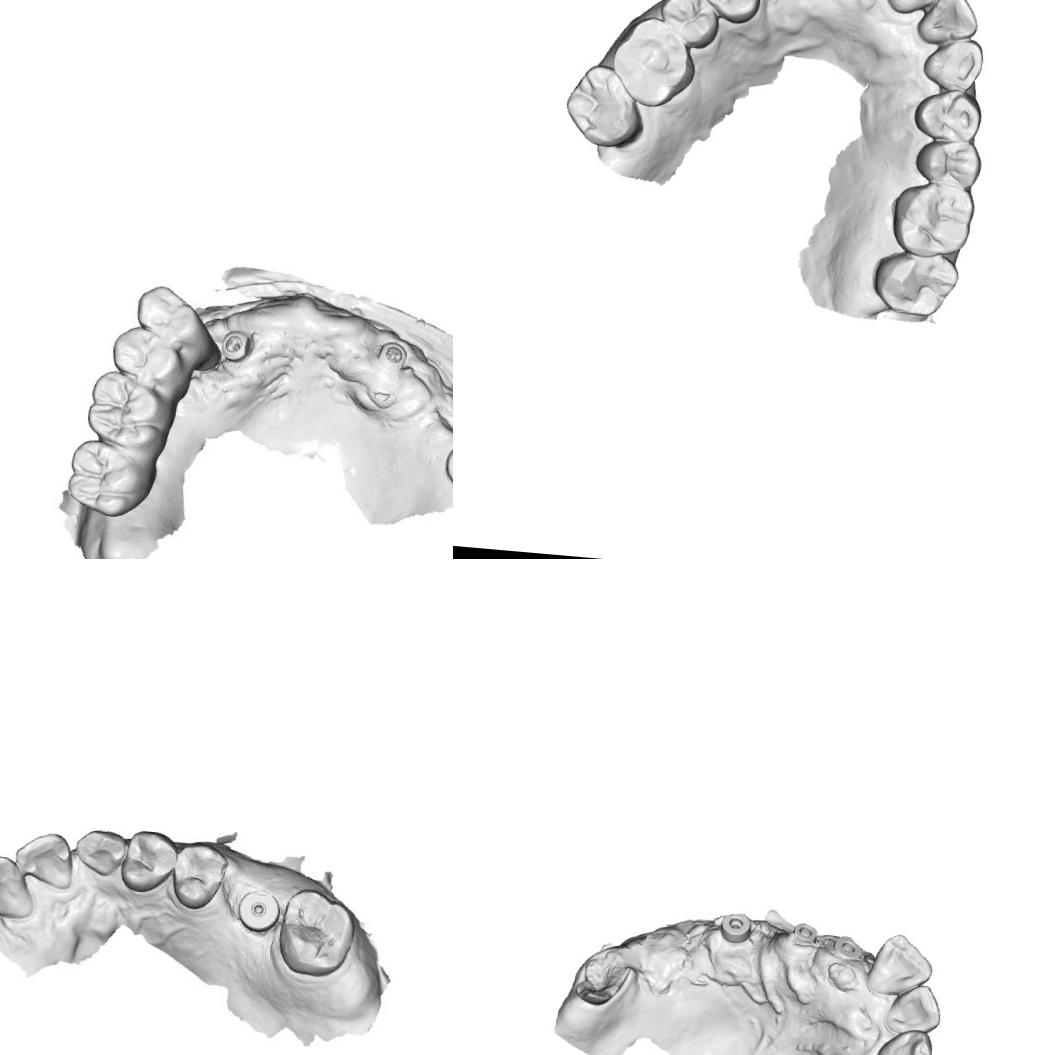canine: (916, 30, 988, 96), (72, 822, 128, 879), (870, 1024, 936, 1055)
implant: (236, 888, 283, 934), (716, 908, 754, 945), (830, 932, 864, 966), (218, 327, 252, 360), (378, 335, 412, 367), (790, 918, 820, 950), (440, 440, 453, 491)
incisor: (862, 929, 936, 1002), (10, 828, 79, 896), (882, 979, 945, 1035), (914, 0, 981, 49), (0, 849, 38, 923), (882, 0, 953, 18)
molar: (606, 13, 700, 109), (275, 885, 360, 978), (562, 60, 648, 150), (886, 177, 978, 260), (83, 368, 170, 454), (62, 435, 146, 519), (870, 246, 960, 320)
premolar: (107, 322, 185, 384), (909, 84, 985, 146), (117, 824, 180, 897), (132, 282, 202, 347), (167, 840, 228, 912), (911, 133, 984, 191), (658, 0, 723, 50), (695, 0, 765, 27)
